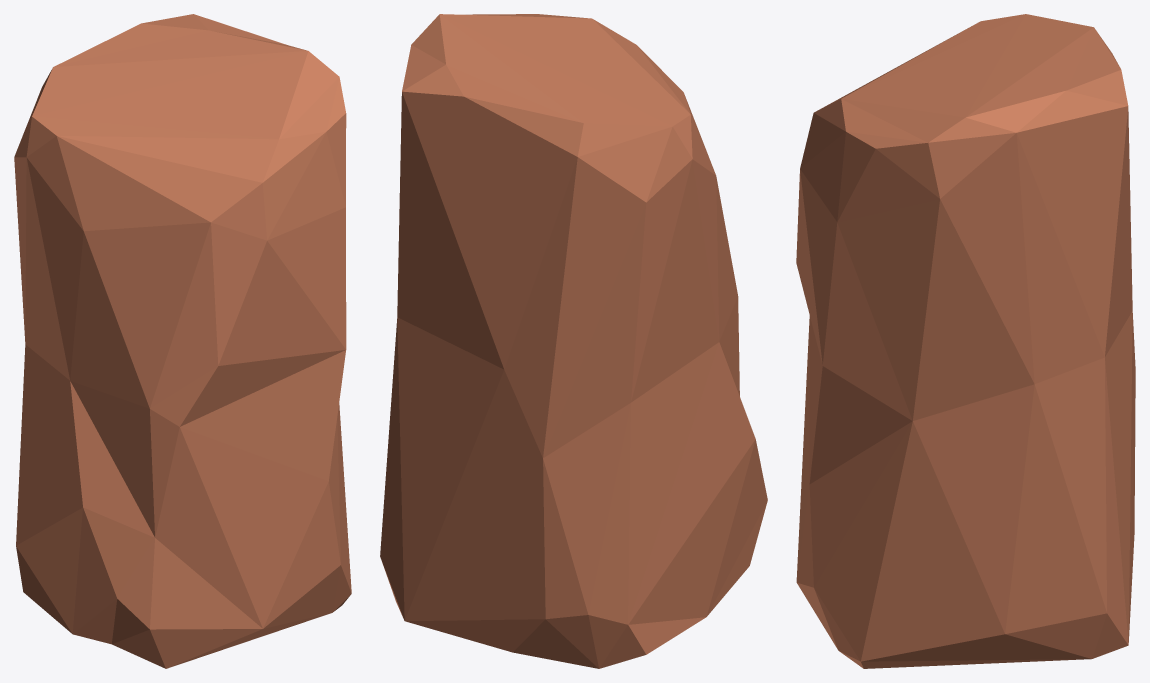
The model's file is west_rock01.FBX.
3 renders of one model, left to right at view 1: azimuth 30°, elevation 25°; view 2: azimuth 150°, elevation 25°; view 3: azimuth 270°, elevation 25°, orthographic. The views are drawn at different scales.
Visible parts, largest first — view 1: west_rock01; view 2: west_rock01; view 3: west_rock01.
Part boxes in pixels (x1,y1,x2,y2): west_rock01: [14, 14, 351, 668]; west_rock01: [380, 14, 767, 668]; west_rock01: [796, 14, 1135, 668].
Size of the model in its own units: 2211 by 3919 by 2125.
